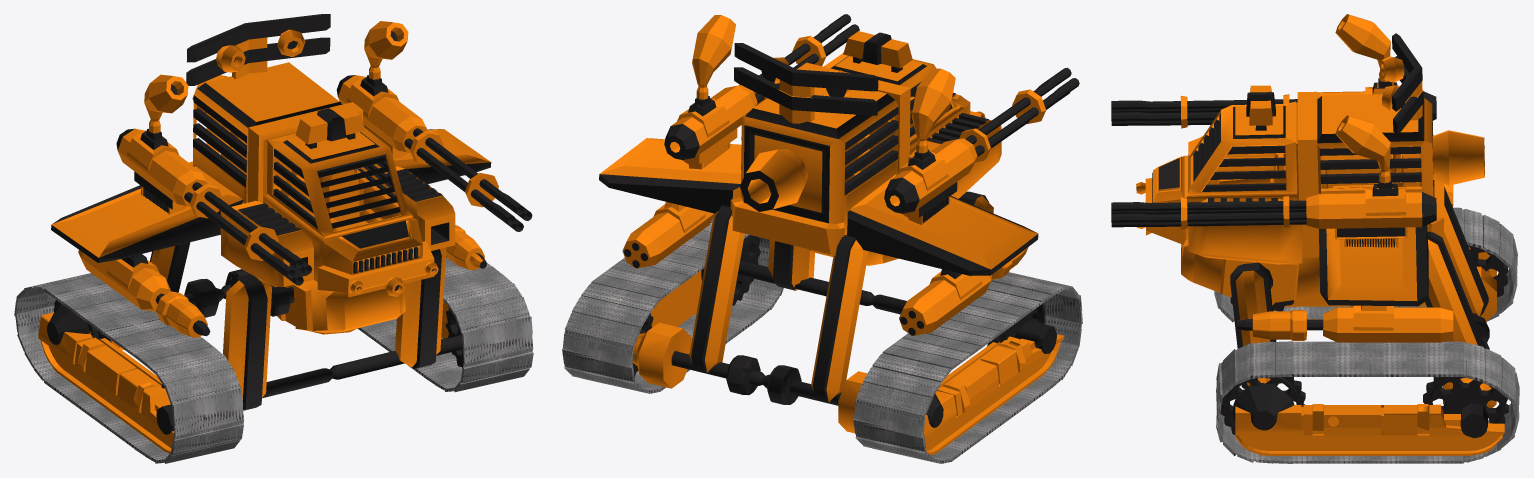
The model's file is Mech Robot.FBX.
The picture shows the model from 3 angles, left to right: view 1: azimuth 30°, elevation 25°; view 2: azimuth 150°, elevation 25°; view 3: azimuth 270°, elevation 25°; orthographic projection. The views are drawn at different scales.
Parts seen in each view (by area): view 1: Mech Robot, Side Belts, Right Gun, Left Gun, Right Missile, Left Missile; view 2: Mech Robot, Side Belts, Right Gun, Left Gun, Right Missile, Left Missile, Left Front Tyre, Right Front Tyre; view 3: Mech Robot, Side Belts, Left Gun, Left Missile, Right Gun, Left Rear Tyre, Left Front Tyre, Right Rear Tyre.
Boxes of the visible parts, <box> form: Mech Robot: <box>38,14,491,453</box>; Side Belts: <box>14,258,533,463</box>; Right Gun: <box>116,74,312,285</box>; Left Gun: <box>336,21,532,231</box>; Right Missile: <box>78,250,210,337</box>; Left Missile: <box>446,225,486,270</box>; Mech Robot: <box>599,31,1064,454</box>; Side Belts: <box>562,217,1082,463</box>; Right Gun: <box>884,67,1079,213</box>; Left Gun: <box>664,14,859,159</box>; Right Missile: <box>899,247,1028,335</box>; Left Missile: <box>622,202,714,268</box>; Left Front Tyre: <box>701,235,760,305</box>; Right Front Tyre: <box>987,303,1045,346</box>; Mech Robot: <box>1136,33,1504,455</box>; Side Belts: <box>1214,207,1519,463</box>; Left Gun: <box>1111,115,1436,229</box>; Left Missile: <box>1237,305,1453,342</box>; Right Gun: <box>1111,14,1436,128</box>; Left Rear Tyre: <box>1423,377,1508,423</box>; Left Front Tyre: <box>1220,377,1305,434</box>; Right Rear Tyre: <box>1468,245,1508,297</box>.
Bounding box in the file's own units: 15843 × 12928 × 15147.
Materials: 3 (3 with a texture image).
